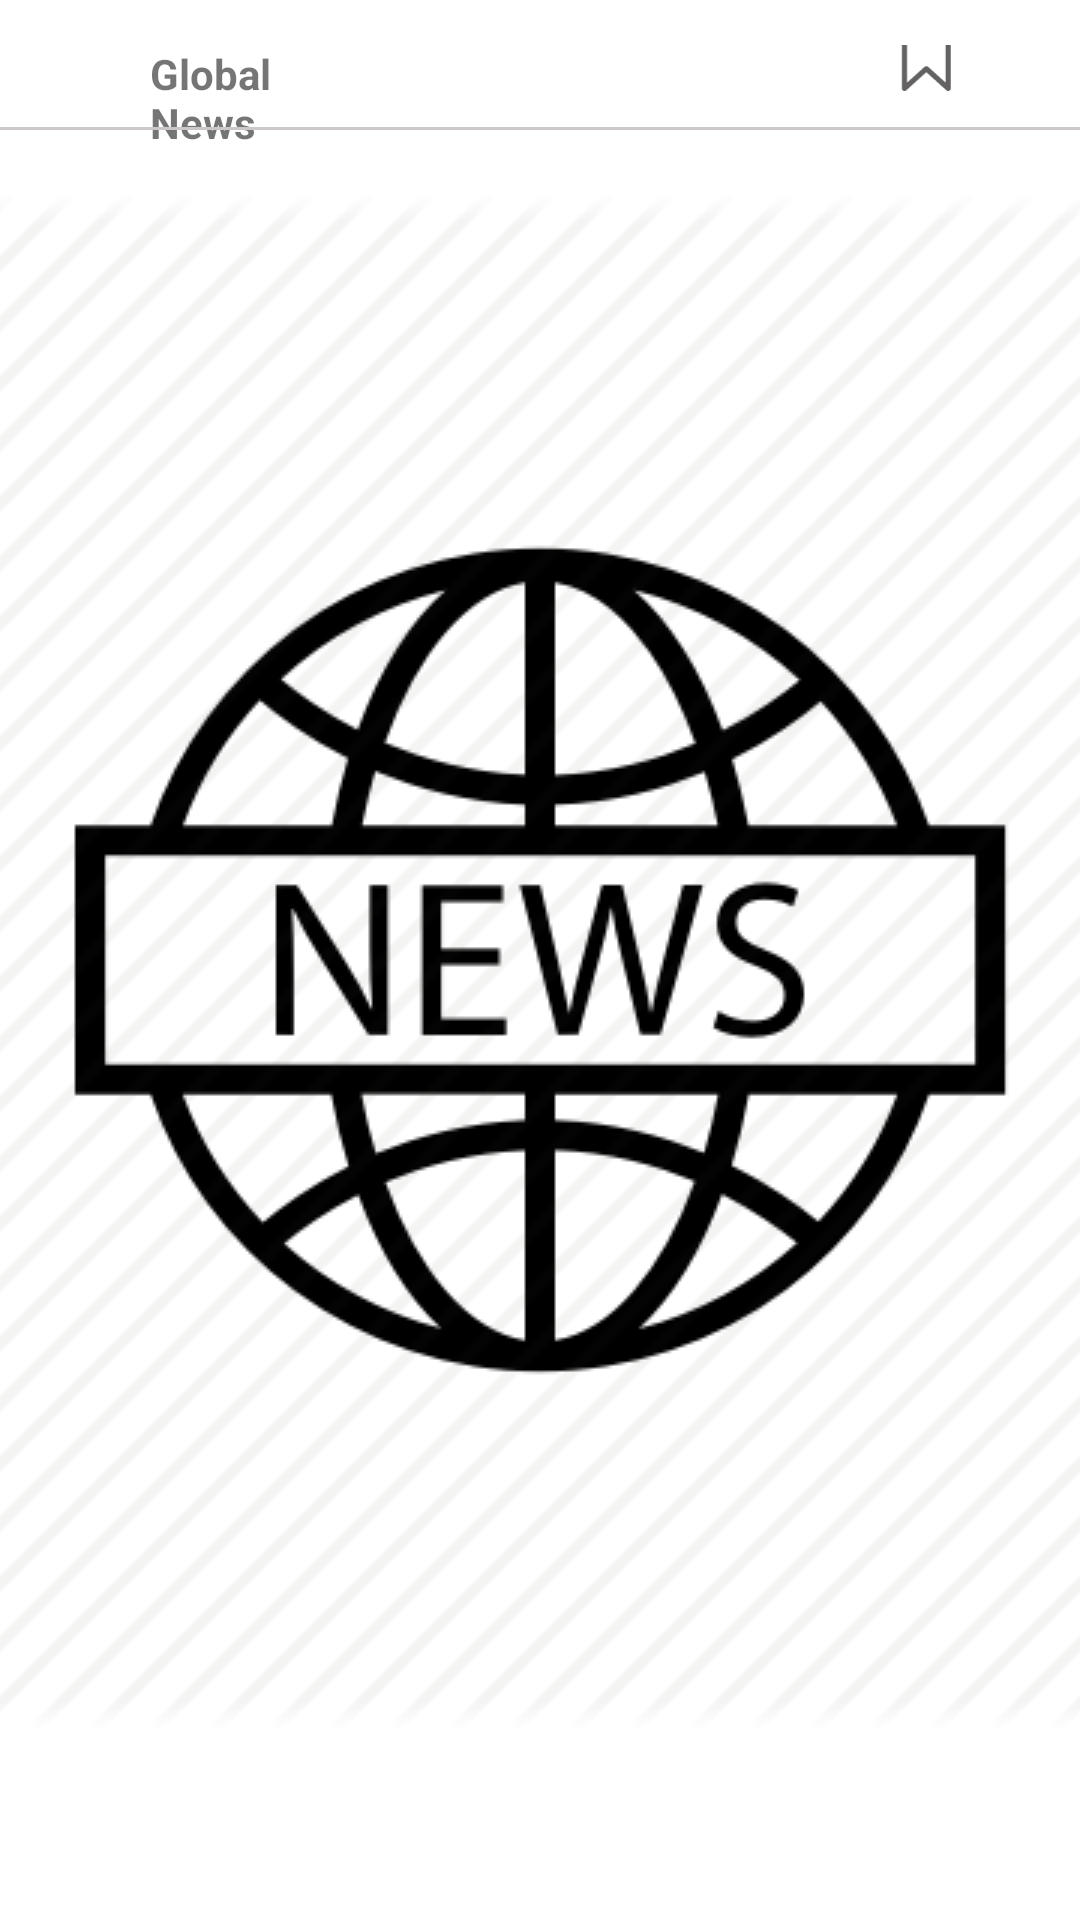

Icons on this 1080px×1920px Android screen, each with its box as {"x1": x1, "y1": y1, "x2": x2, "y2": y2}:
bookmark: {"x1": 901, "y1": 45, "x2": 951, "y2": 91}
